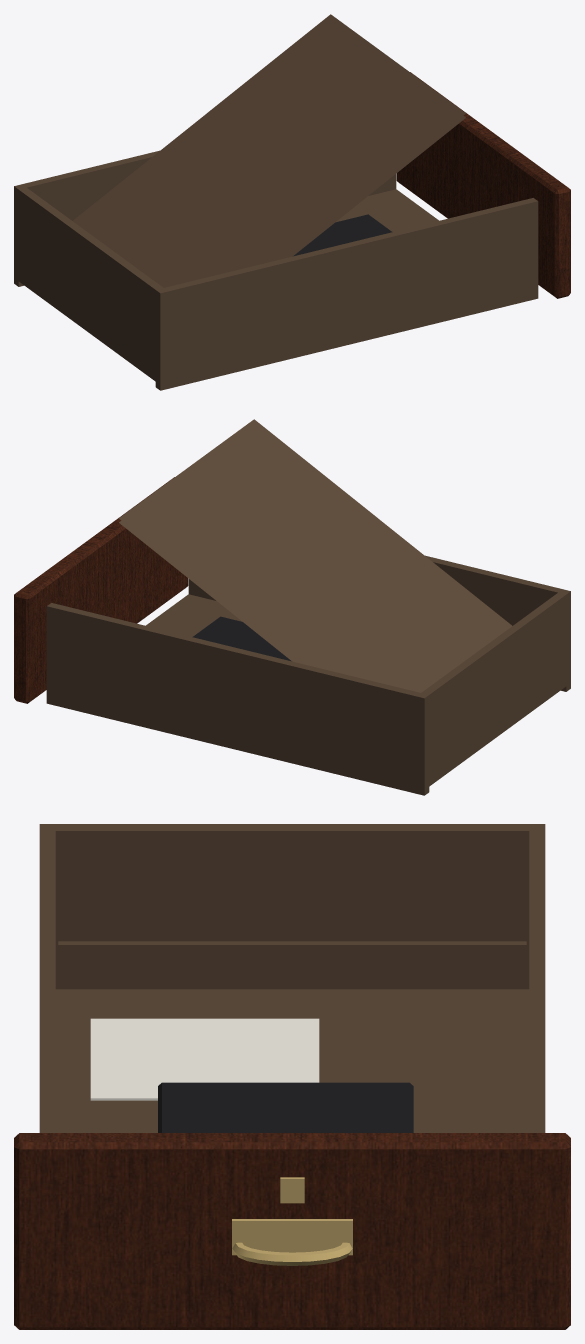
File: room_guest_room__夹层已打开.gltf
The picture shows the model from 3 angles, top to bottom: view 1: azimuth 30°, elevation 25°; view 2: azimuth 150°, elevation 25°; view 3: azimuth 270°, elevation 25°; orthographic projection. The views are drawn at different scales.
Visible parts, largest first — view 1: 客房·书桌夹层抽屉·拉开; view 2: 客房·书桌夹层抽屉·拉开; view 3: 客房·书桌夹层抽屉·拉开.
Boxes of the visible parts, box(x1,y1,x2,y2) form: 客房·书桌夹层抽屉·拉开: box(14, 14, 570, 390); 客房·书桌夹层抽屉·拉开: box(14, 419, 570, 795); 客房·书桌夹层抽屉·拉开: box(14, 824, 570, 1329).
Size of the model in its own units: 0.629 by 0.2797 by 0.414.
Materials: 5 (1 with a texture image).
